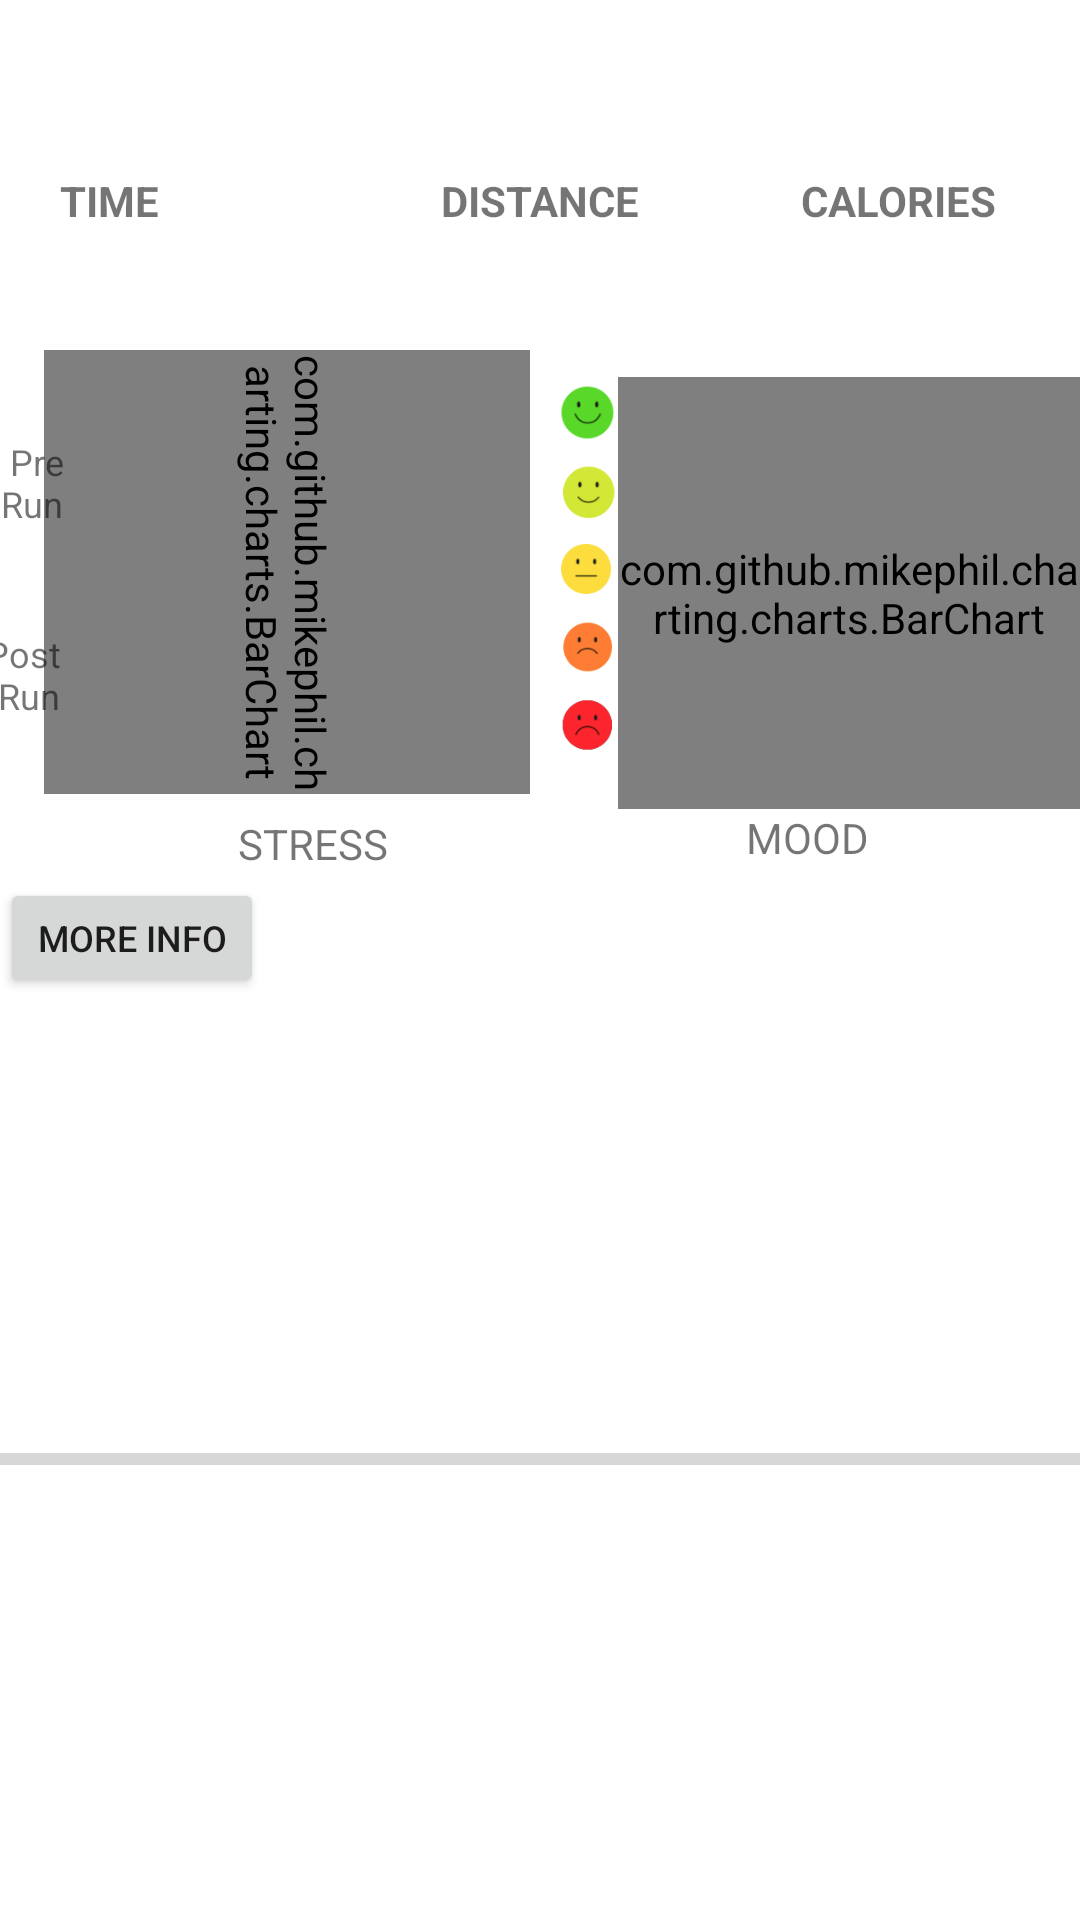

Locate icon controls on the screen. Image size 1080×1920, boxes as (x1, y1, x2, y2).
angriestcropped: (562, 700, 612, 750)
happiestcropped: (561, 386, 614, 439)
mediumfacecropped: (561, 544, 611, 594)
smallorangecropped: (563, 622, 612, 672)
